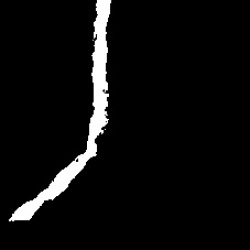crack: (8, 2, 111, 220)
